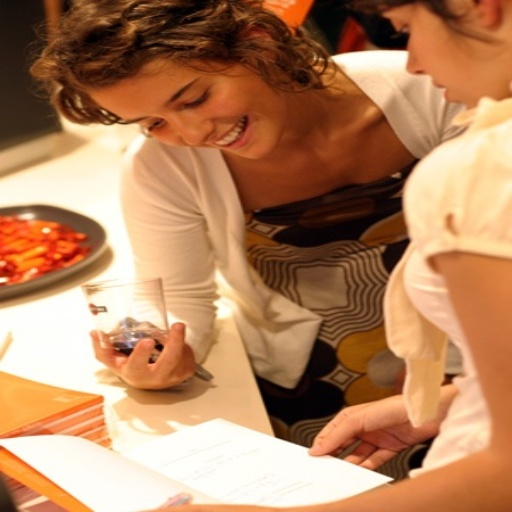hand: (307, 378, 450, 481), (87, 317, 197, 390), (131, 501, 276, 510)
